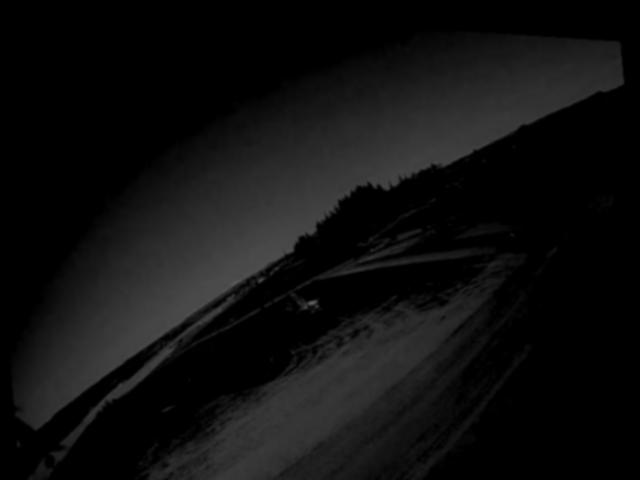hedef: (274, 272, 330, 329)
